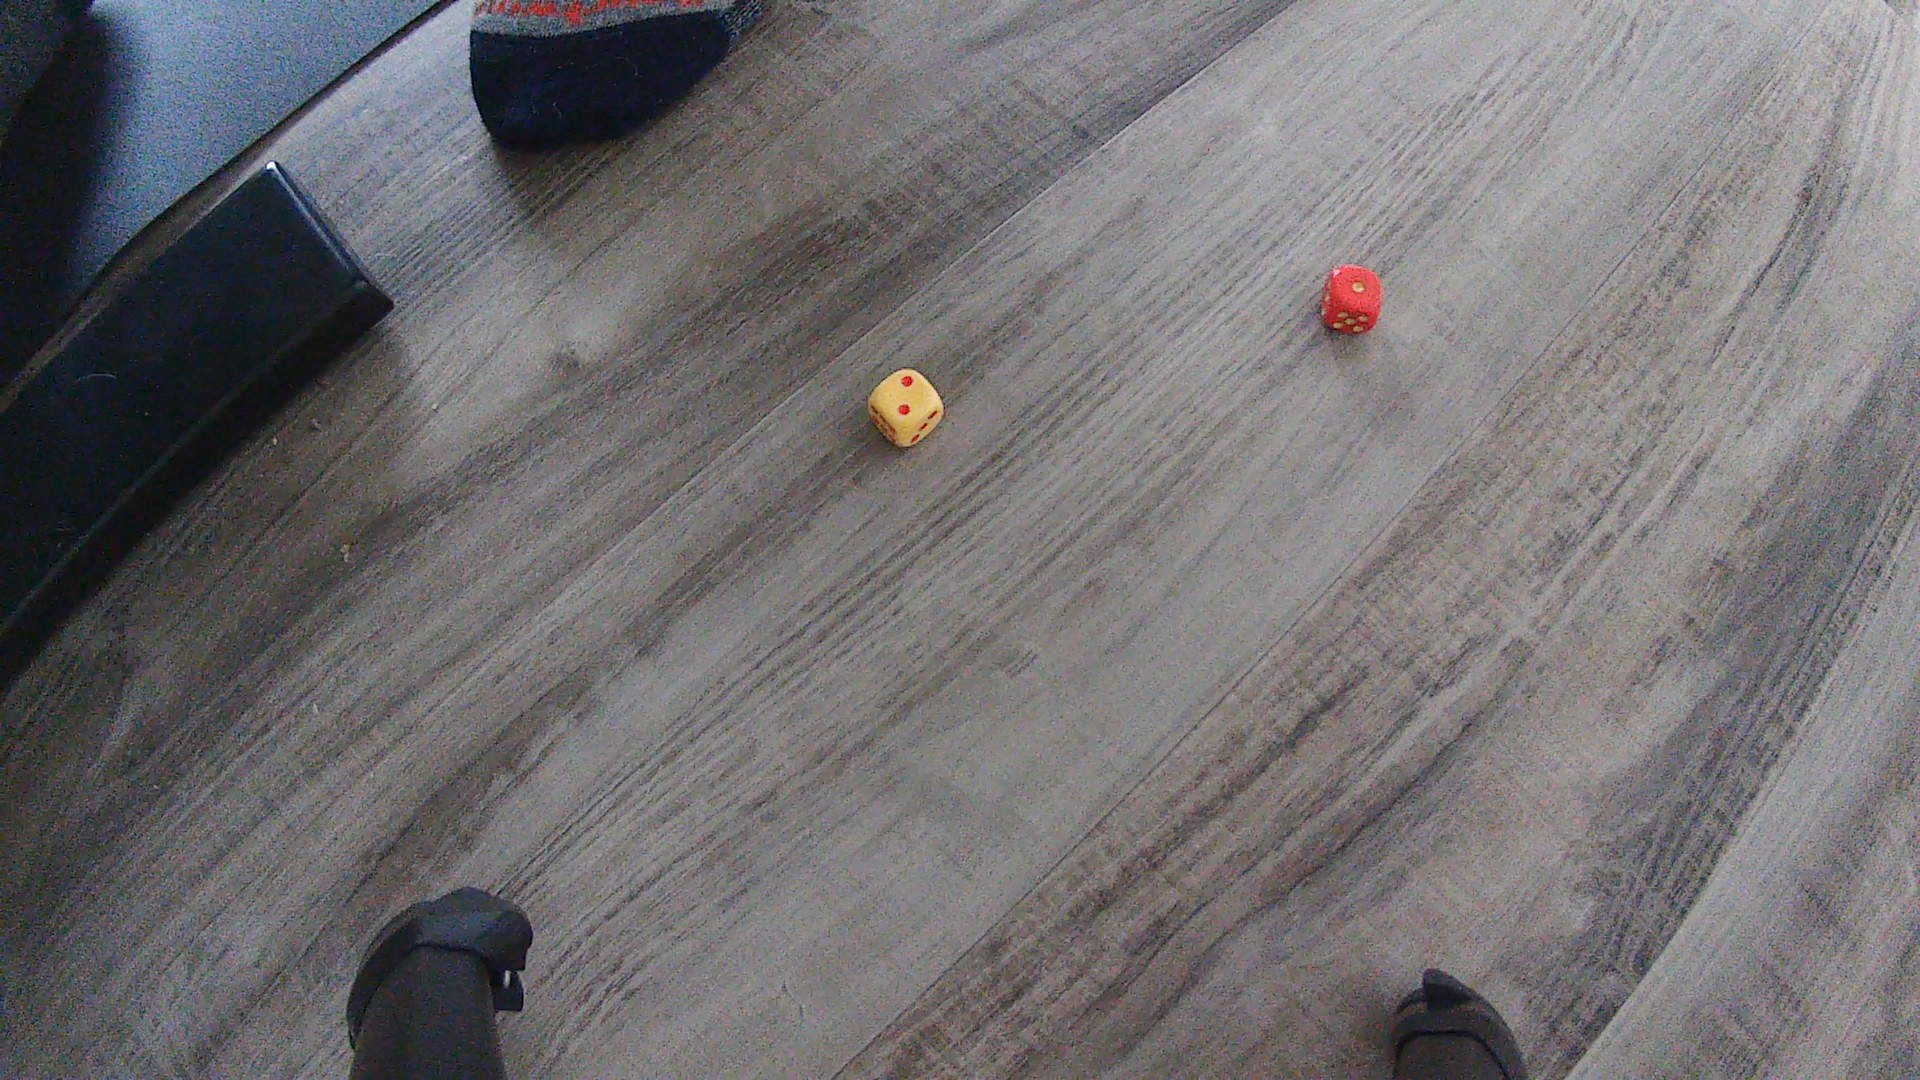die: (866, 367, 945, 450), (1321, 264, 1383, 336)
